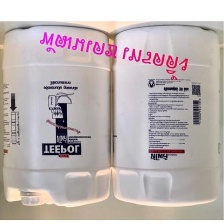cleaning_solution: (0, 22, 115, 210), (109, 21, 223, 208)
